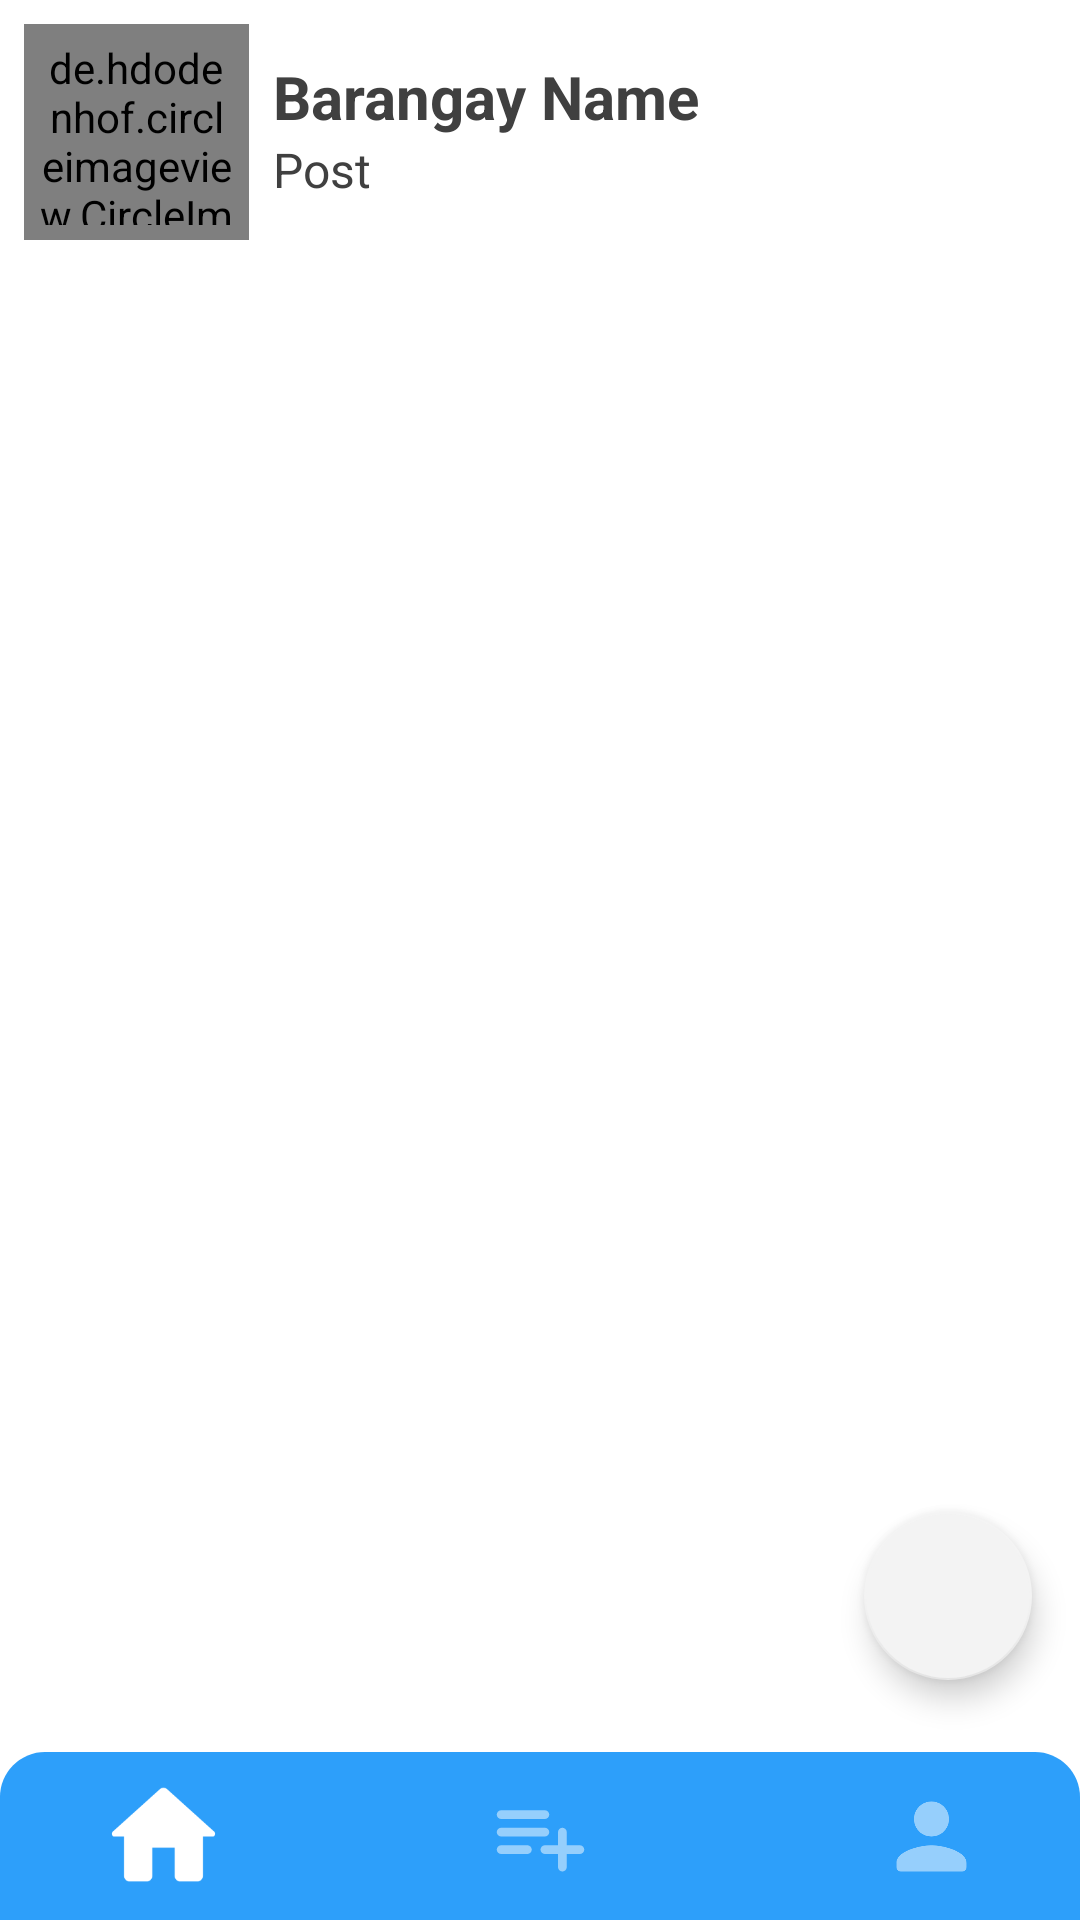

Icons on this 1080w x 1920h Android screen, each with the point to tap as [x,y]:
home: [163,1834]
person: [931,1836]
playlist add: [540,1841]
